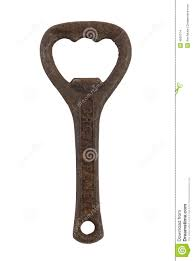bottleopener: (38, 20, 135, 245)
